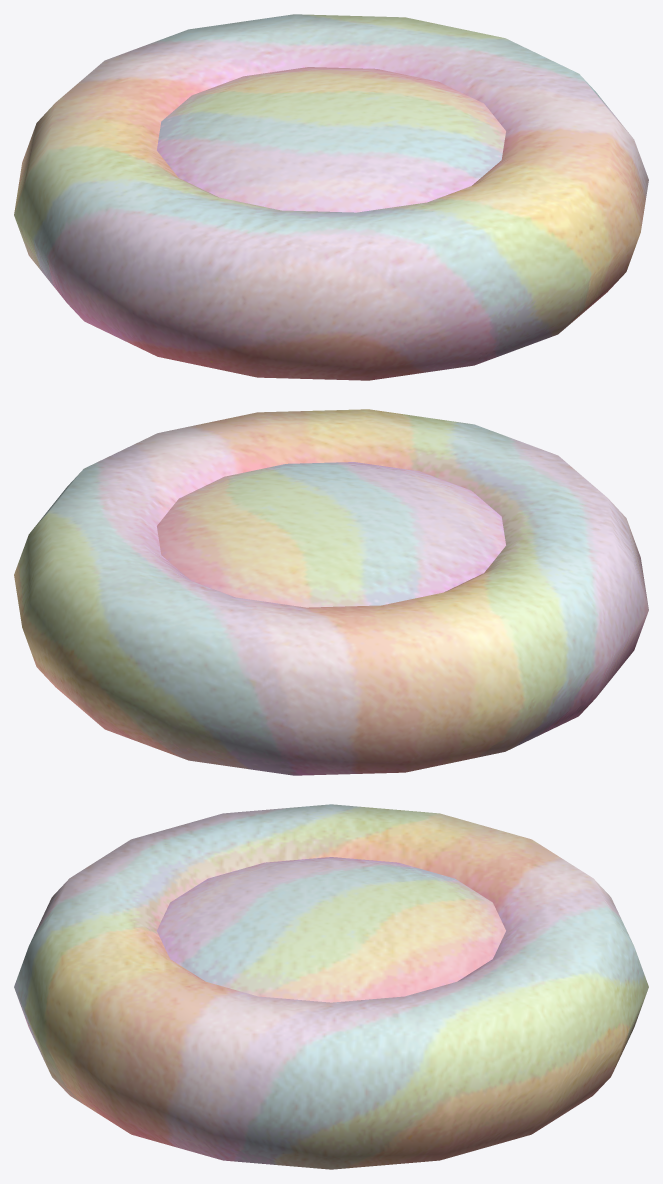
The model's file is Doll_OB_Cushion_001.FBX.
3 views of the same model, one above another, from view 1: azimuth 30°, elevation 25°; view 2: azimuth 150°, elevation 25°; view 3: azimuth 270°, elevation 25° (orthographic).
Visible parts, largest first — view 1: Doll_OB_Cushion_001; view 2: Doll_OB_Cushion_001; view 3: Doll_OB_Cushion_001.
Boxes of the visible parts, left/top/right/bottom form: Doll_OB_Cushion_001: left=14, top=14, right=648, bottom=380; Doll_OB_Cushion_001: left=14, top=409, right=648, bottom=775; Doll_OB_Cushion_001: left=14, top=804, right=648, bottom=1169.
Bounding box in the file's own units: 29.78 × 7.32 × 29.78.
